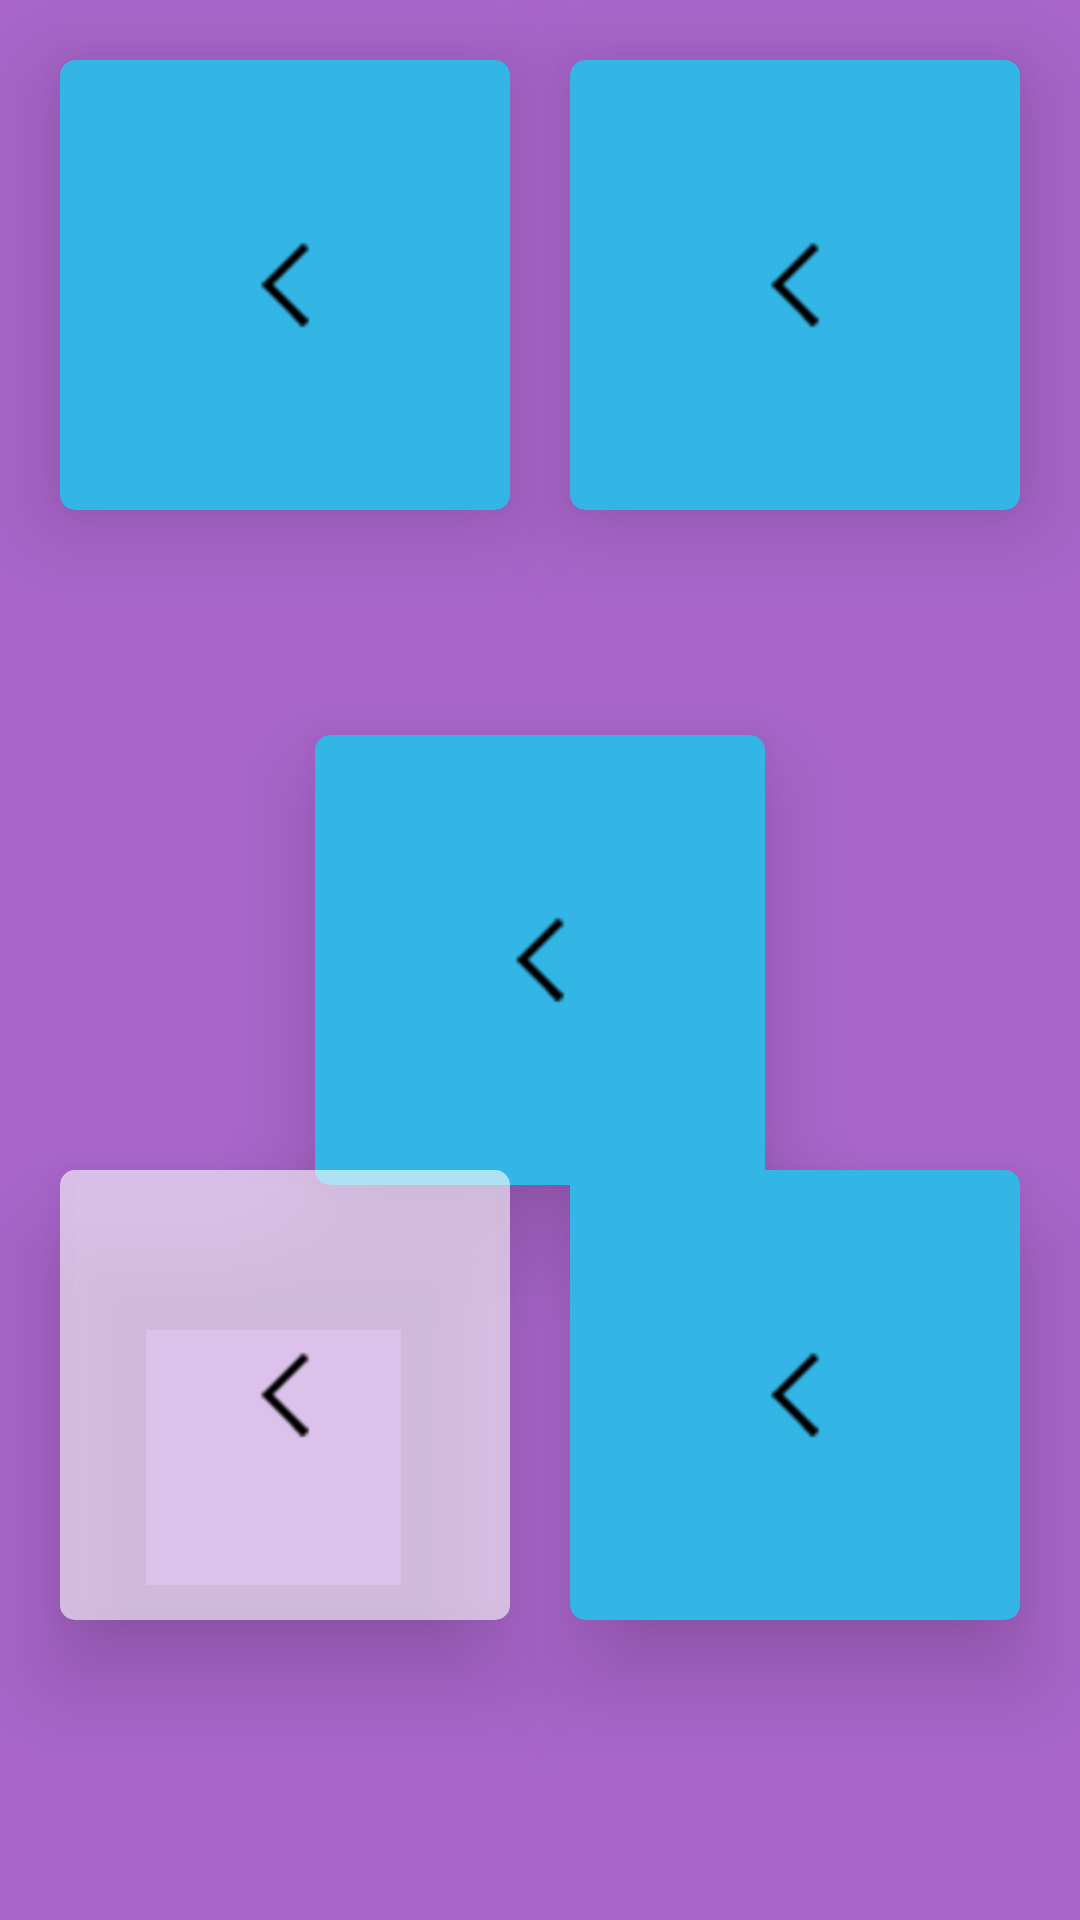

Icon click points for this 1080×1920 phone screenshot, format [x,y]:
home back: [285,285], [795,285], [540,960], [285,1395], [795,1395]
